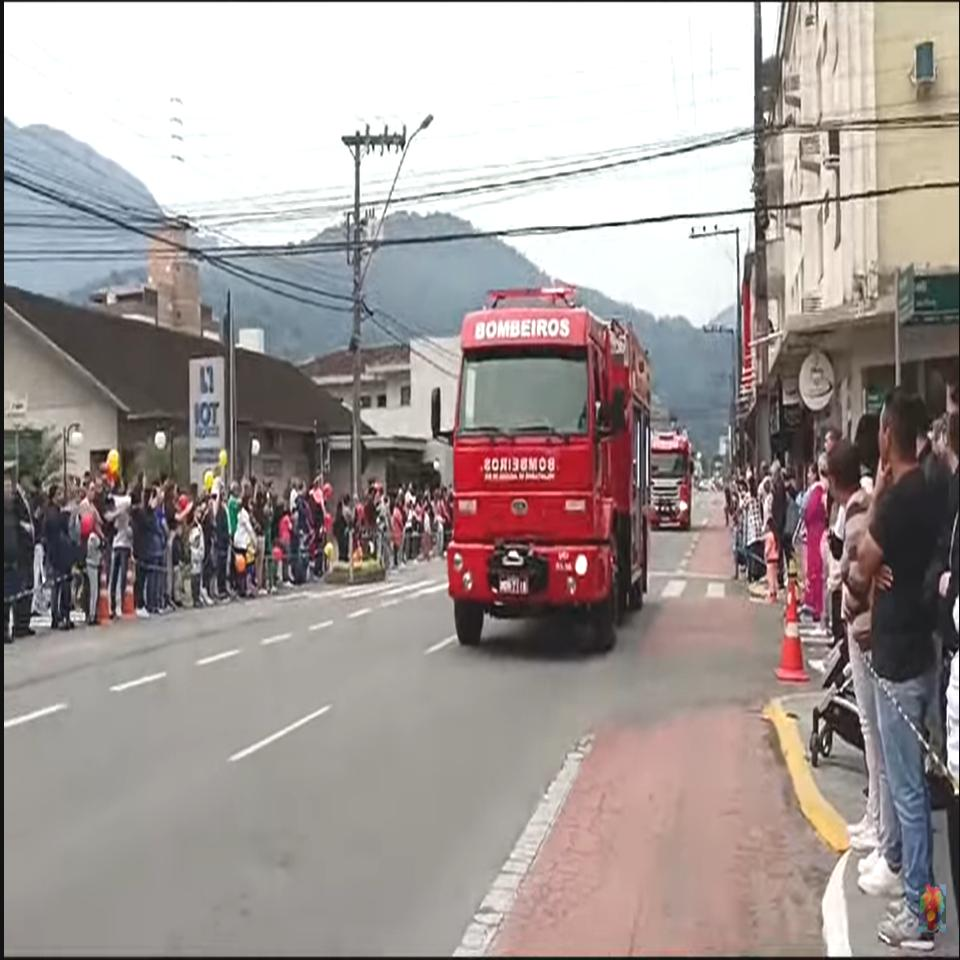bombeiro: (427, 282, 655, 650)
